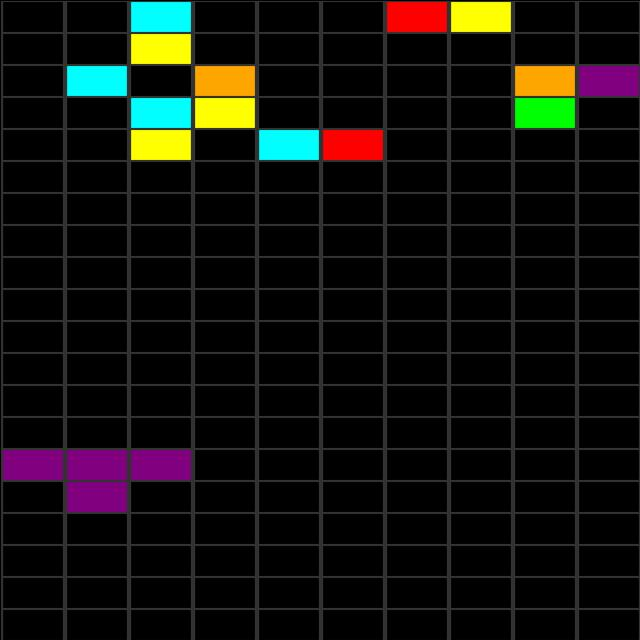Tetrimino_J: (0, 449, 190, 514)
